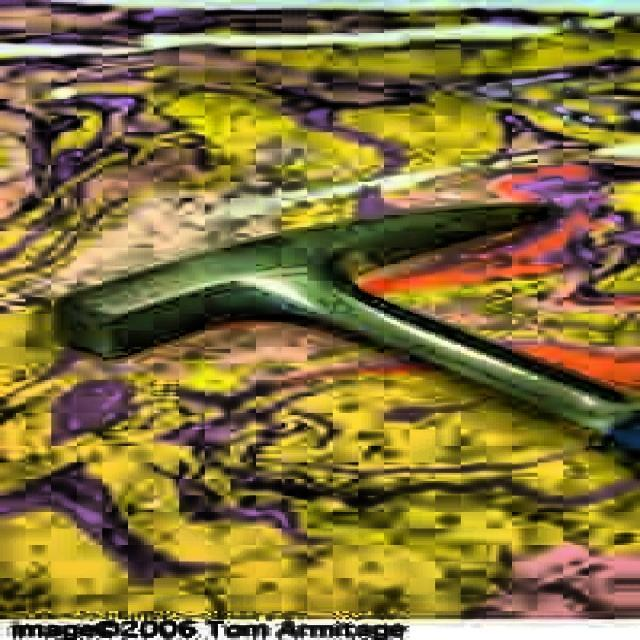hammer: (58, 201, 640, 495)
